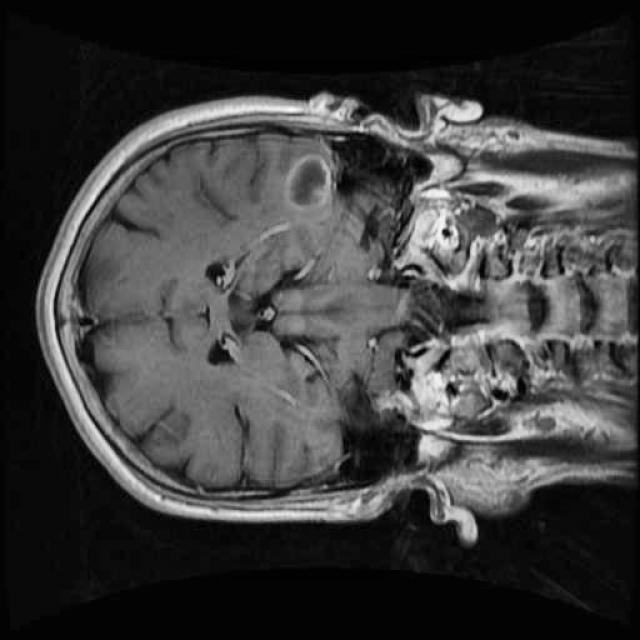Tumor: (271, 139, 347, 225)
